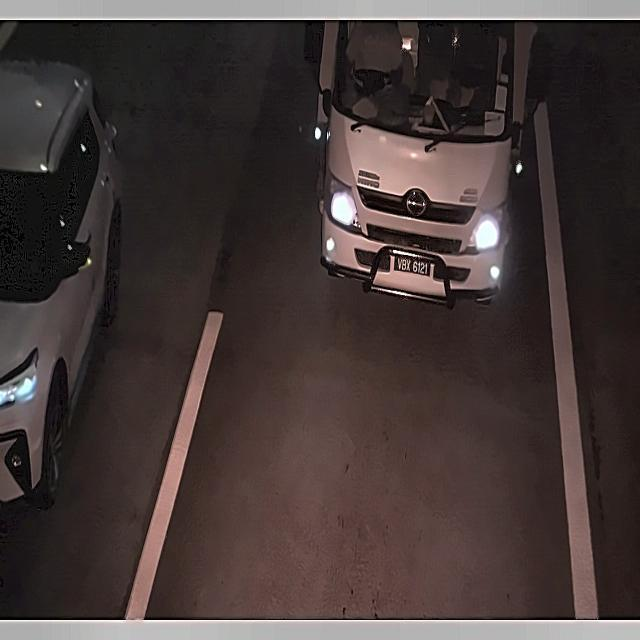car: (392, 252, 437, 282)
